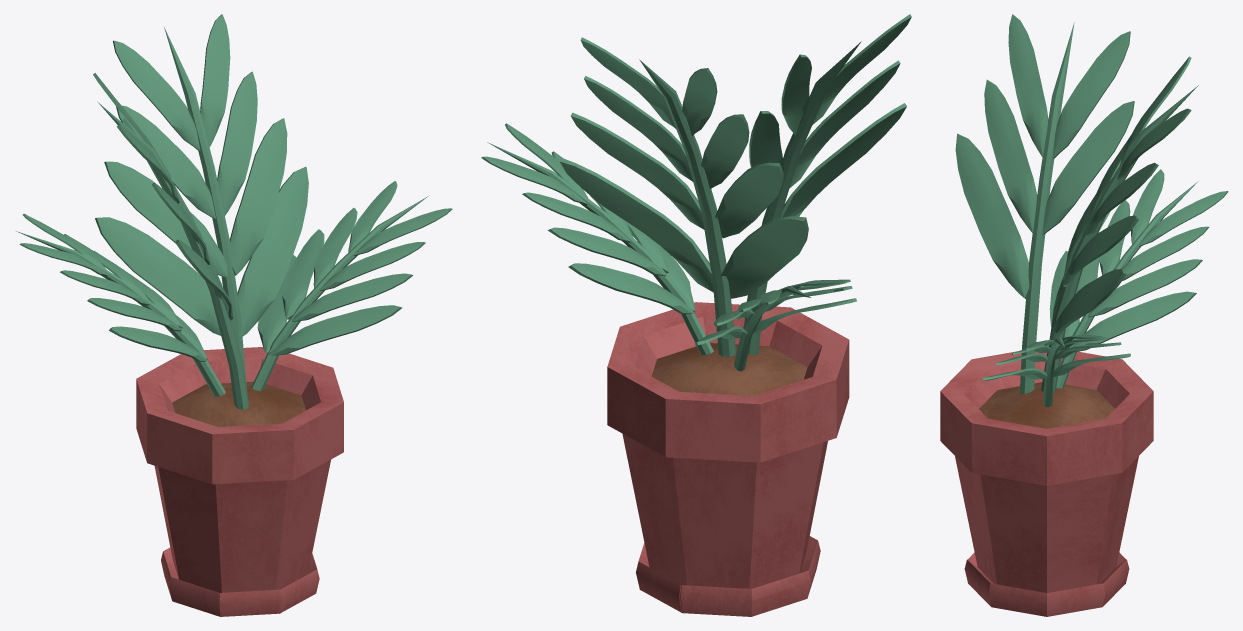
The model's file is Plant2.fbx.
3 renders of one model, left to right at view 1: azimuth 30°, elevation 25°; view 2: azimuth 150°, elevation 25°; view 3: azimuth 270°, elevation 25°, orthographic. The views are drawn at different scales.
Parts seen in each view (by area): view 1: Plant; view 2: Plant; view 3: Plant.
Part boxes in pixels (x1,y1,x2,y2): Plant: [16, 14, 452, 616]; Plant: [481, 14, 911, 616]; Plant: [940, 14, 1228, 616].
Bounding box in the file's own units: 212 × 281 × 146.
